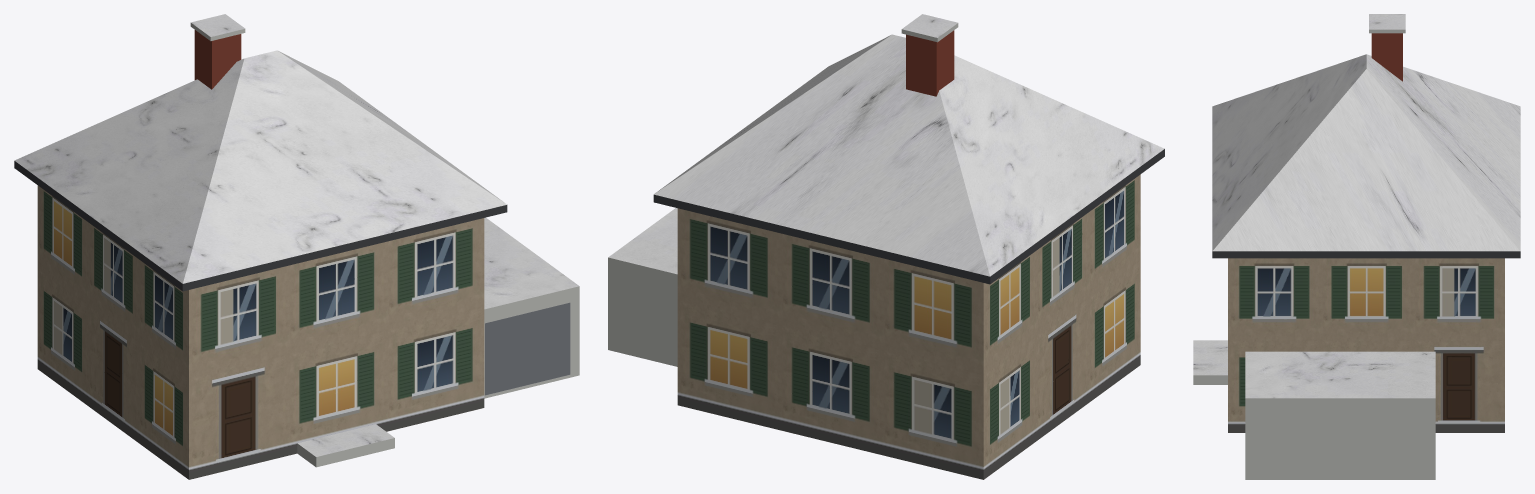
Rendered from c_house2.glb.
The picture shows the model from 3 angles, left to right: view 1: azimuth 30°, elevation 25°; view 2: azimuth 150°, elevation 25°; view 3: azimuth 270°, elevation 25°; orthographic projection. The views are drawn at different scales.
Visible parts, largest first — view 1: House; view 2: House; view 3: House.
Boxes of the visible parts, x1,y1,x2,y2 form: House: [14, 14, 579, 479]; House: [608, 14, 1164, 479]; House: [1193, 14, 1520, 479].
Size of the model in its own units: 12.65 by 10.56 by 9.45.
3 materials, 3 textured.
